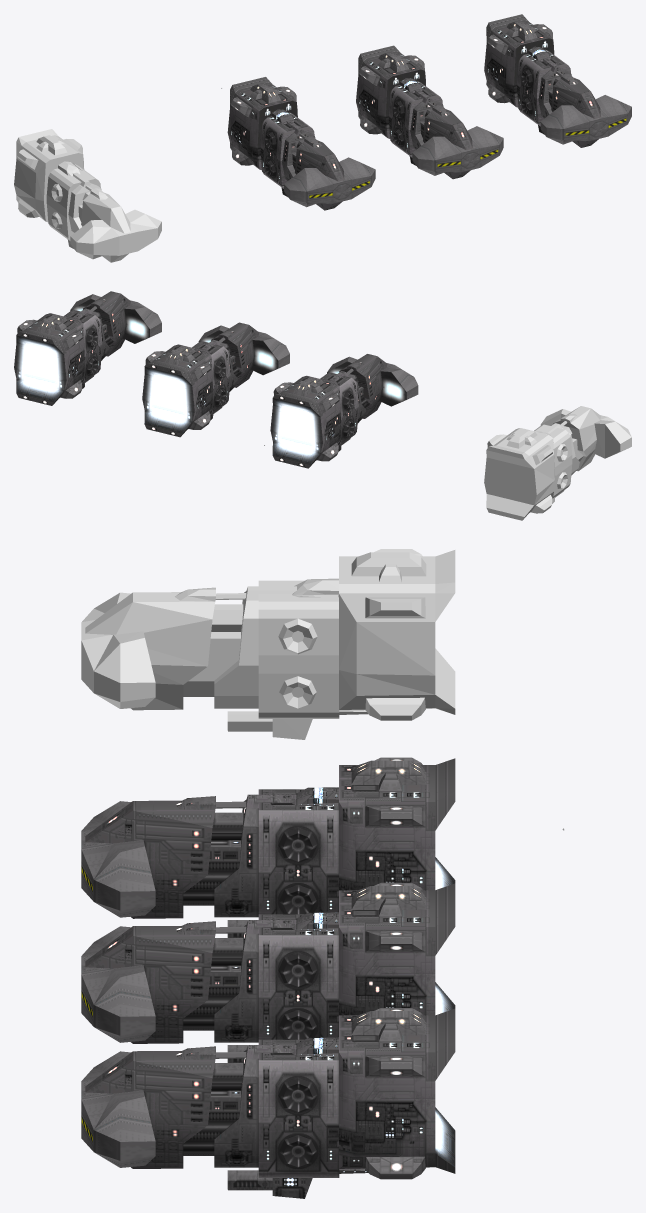
File: hgn_smt_rammingfrigate.dae
The picture shows the model from 3 angles, top to bottom: view 1: azimuth 30°, elevation 25°; view 2: azimuth 150°, elevation 25°; view 3: azimuth 270°, elevation 25°; orthographic projection. The views are drawn at different scales.
Visible parts, largest first — view 1: COL[Root], MULT[root_mesh]_LOD[2], MULT[root_mesh]_LOD[1], MULT[root_mesh]_LOD[0], COL[Hardpoint_Nose_Position], MULT[ram_nose]_LOD[1], MULT[ram_nose]_LOD[0], MULT[ram_nose]_LOD[2]; view 2: MULT[root_mesh]_LOD[0], COL[Root], MULT[root_mesh]_LOD[1], MULT[root_mesh]_LOD[2], MULT[ram_nose]_LOD[2], MULT[ram_nose]_LOD[0], MULT[ram_nose]_LOD[1], COL[Hardpoint_Nose_Position]; view 3: MULT[root_mesh]_LOD[2], COL[Root], MULT[root_mesh]_LOD[0], MULT[root_mesh]_LOD[1], MULT[ram_nose]_LOD[0], MULT[ram_nose]_LOD[1], COL[Hardpoint_Nose_Position], MULT[ram_nose]_LOD[2], COL[Hardpoint_Weapon_Ion_Beam_Position], MULT[ion_weapon]_LOD[2].
Part boxes in pixels (x1=…): COL[Root]: x1=14, y1=129, x2=101, y2=240; MULT[root_mesh]_LOD[2]: x1=484, y1=14, x2=571, y2=126; MULT[root_mesh]_LOD[1]: x1=356, y1=45, x2=443, y2=157; MULT[root_mesh]_LOD[0]: x1=227, y1=77, x2=315, y2=188; COL[Hardpoint_Nose_Position]: x1=70, y1=185, x2=161, y2=262; MULT[ram_nose]_LOD[1]: x1=412, y1=102, x2=503, y2=179; MULT[ram_nose]_LOD[0]: x1=284, y1=133, x2=375, y2=210; MULT[ram_nose]_LOD[2]: x1=540, y1=71, x2=631, y2=147; MULT[root_mesh]_LOD[0]: x1=270, y1=371, x2=369, y2=468; COL[Root]: x1=484, y1=423, x2=583, y2=520; MULT[root_mesh]_LOD[1]: x1=142, y1=339, x2=241, y2=437; MULT[root_mesh]_LOD[2]: x1=14, y1=308, x2=113, y2=405; MULT[ram_nose]_LOD[2]: x1=70, y1=291, x2=161, y2=356; MULT[ram_nose]_LOD[0]: x1=327, y1=354, x2=418, y2=418; MULT[ram_nose]_LOD[1]: x1=198, y1=322, x2=289, y2=387; COL[Hardpoint_Nose_Position]: x1=540, y1=406, x2=631, y2=471; MULT[root_mesh]_LOD[2]: x1=183, y1=1008, x2=455, y2=1179; COL[Root]: x1=183, y1=549, x2=455, y2=720; MULT[root_mesh]_LOD[0]: x1=183, y1=757, x2=455, y2=917; MULT[root_mesh]_LOD[1]: x1=183, y1=882, x2=455, y2=1042; MULT[ram_nose]_LOD[0]: x1=81, y1=796, x2=246, y2=918; MULT[ram_nose]_LOD[1]: x1=81, y1=921, x2=246, y2=1043; COL[Hardpoint_Nose_Position]: x1=81, y1=587, x2=246, y2=710; MULT[ram_nose]_LOD[2]: x1=81, y1=1046, x2=246, y2=1168; COL[Hardpoint_Weapon_Ion_Beam_Position]: x1=227, y1=711, x2=312, y2=739; MULT[ion_weapon]_LOD[2]: x1=227, y1=1170, x2=312, y2=1198.
Size of the model in its own units: 521 by 81.27 by 196.
21 materials, 21 textured.
